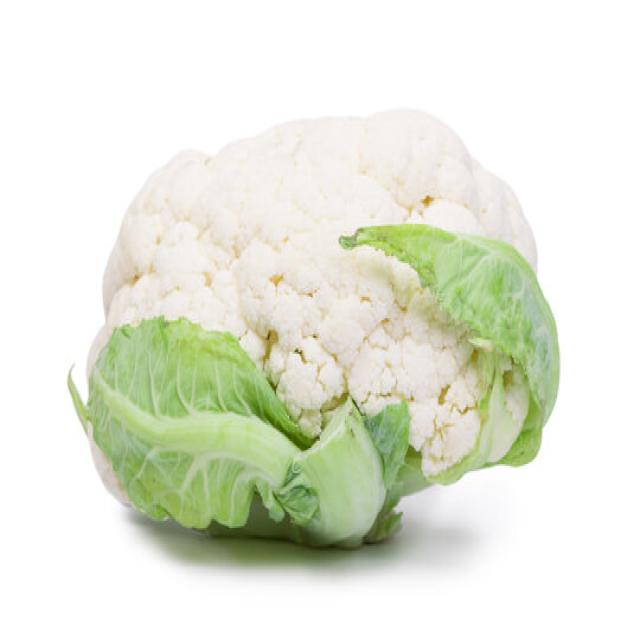Cauliflower: (76, 99, 532, 531)
